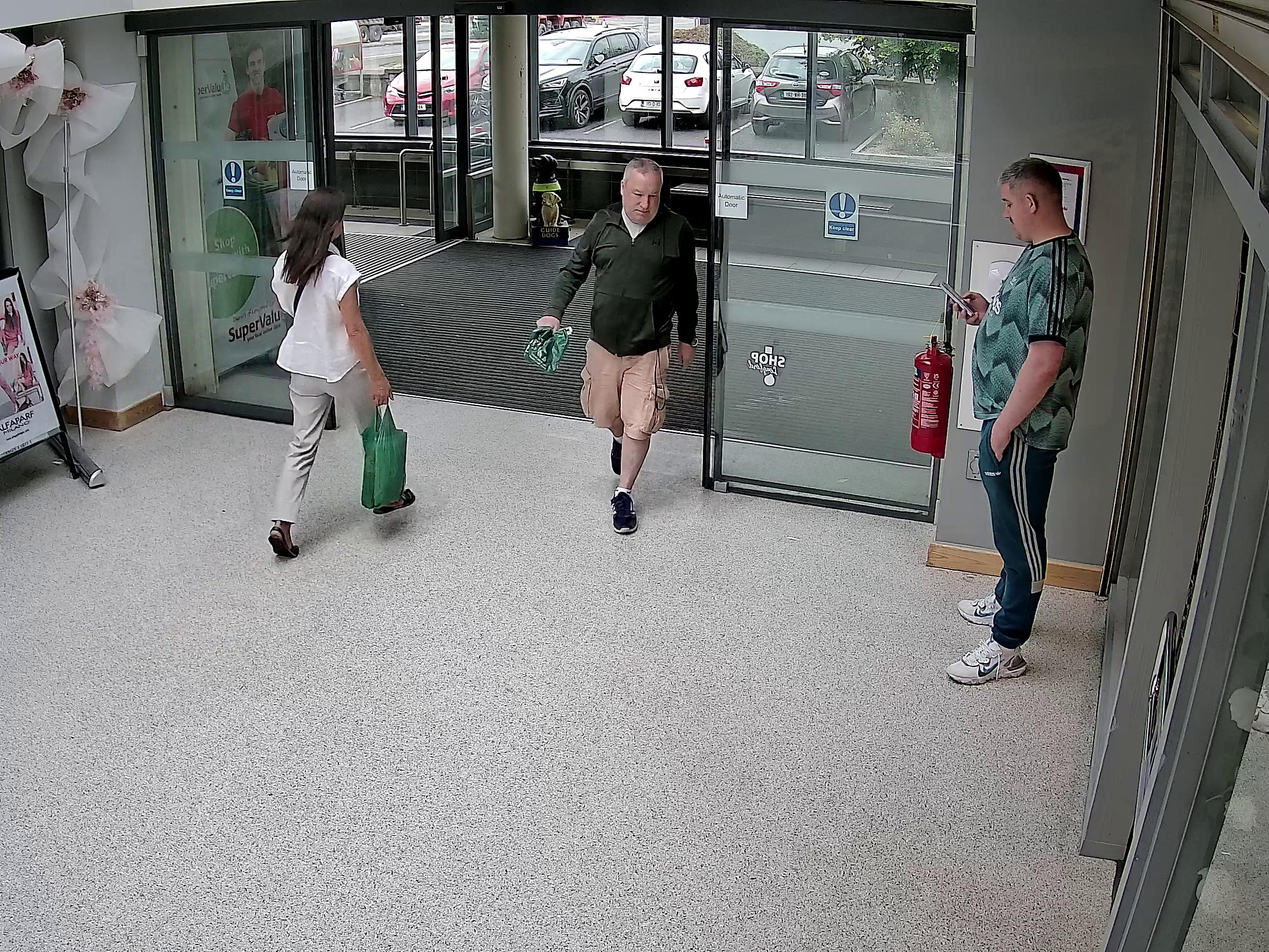empty-shopping-bags: (521, 324, 575, 374)
filled-shopping-bags: (358, 405, 408, 512)
person: (536, 156, 699, 533), (266, 187, 392, 558)
person-with-empty-shopping-bag-s-: (520, 155, 701, 535)
person-with-filled-shopping-bag-s-: (266, 184, 408, 559)
